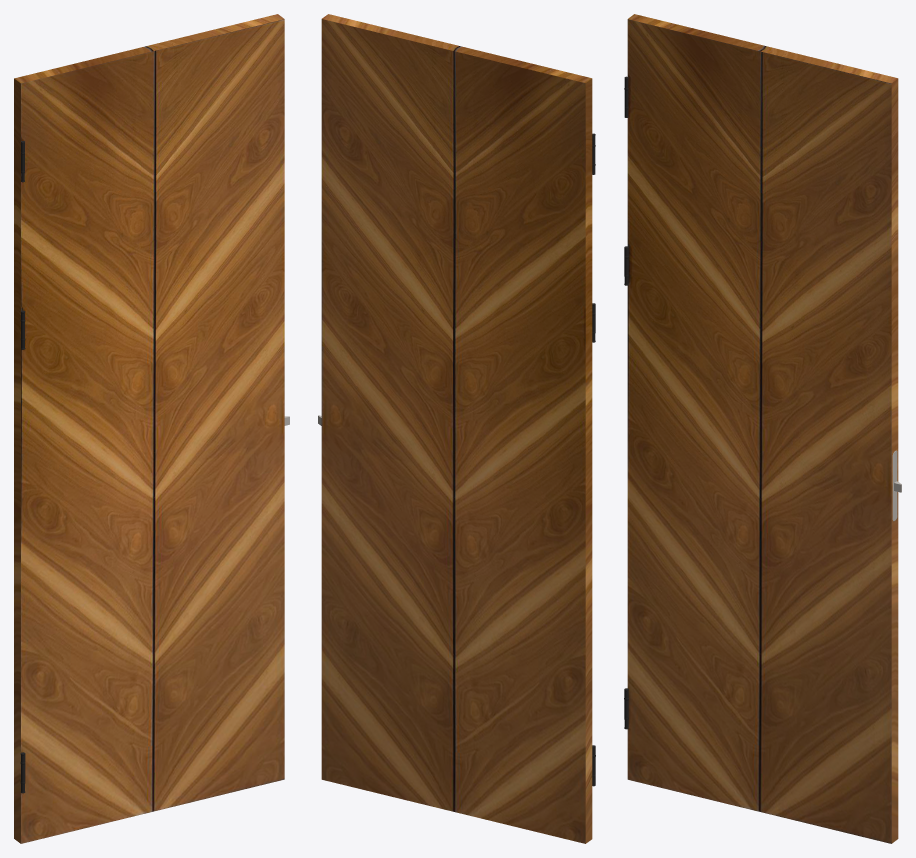
File: 49_LOTUS_Door.glb
The picture shows the model from 3 angles, left to right: view 1: azimuth 30°, elevation 25°; view 2: azimuth 150°, elevation 25°; view 3: azimuth 330°, elevation 25°; orthographic projection.
Visible parts, largest first — view 1: 49_LOTUS_Door; view 2: 49_LOTUS_Door; view 3: 49_LOTUS_Door.
Part boxes in pixels (x1=…): 49_LOTUS_Door: x1=14, y1=14, x2=289, y2=843; 49_LOTUS_Door: x1=318, y1=14, x2=595, y2=843; 49_LOTUS_Door: x1=624, y1=14, x2=901, y2=843.
Size of the model in its own units: 0.8267 by 2.2 by 0.0503.
Materials: 3 (1 with a texture image).
